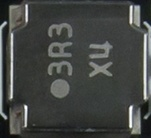Induktor: (5, 3, 145, 137)
